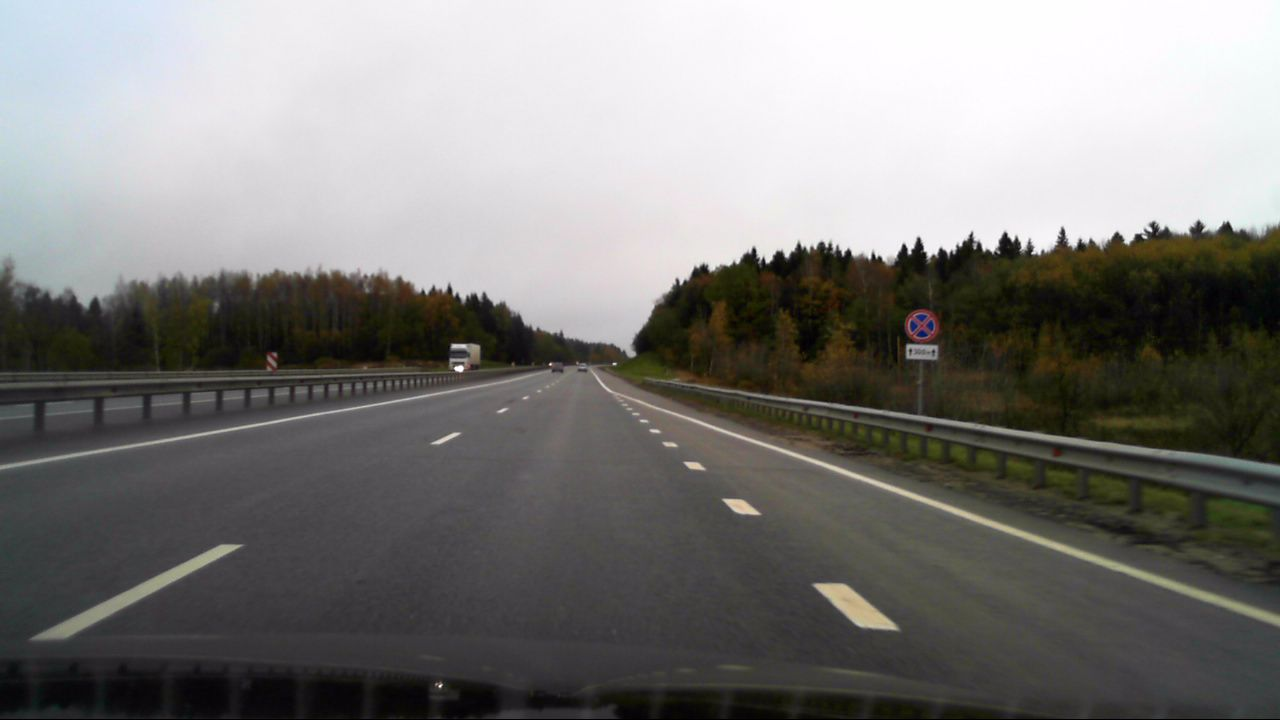No Parking: (906, 311, 938, 340)
